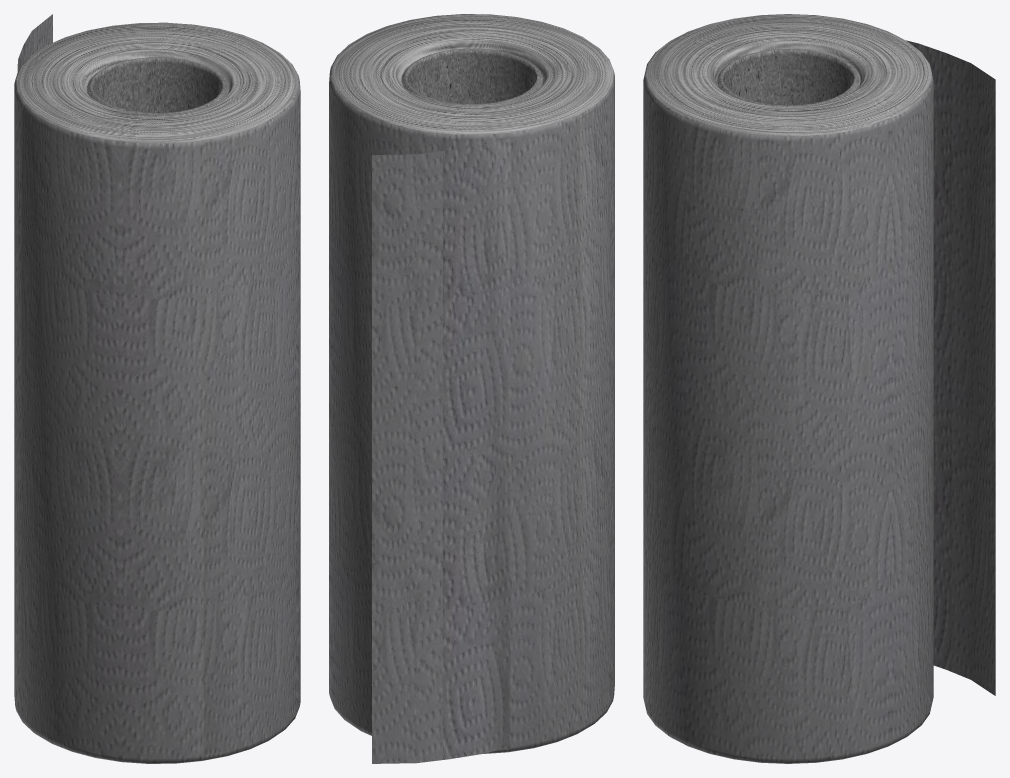
The model's file is toilet_paper.glb.
The picture shows the model from 3 angles, left to right: view 1: azimuth 30°, elevation 25°; view 2: azimuth 150°, elevation 25°; view 3: azimuth 270°, elevation 25°; orthographic projection.
Visible parts, largest first — view 1: Toilet_Paper.001; view 2: Toilet_Paper.001; view 3: Toilet_Paper.001.
Boxes of the visible parts, x1=… form: Toilet_Paper.001: x1=14, y1=14, x2=300, y2=763; Toilet_Paper.001: x1=329, y1=14, x2=614, y2=763; Toilet_Paper.001: x1=643, y1=14, x2=995, y2=763.
Size of the model in its own units: 2.29 by 5.48 by 2.78.
Materials: 1 (1 with a texture image).
